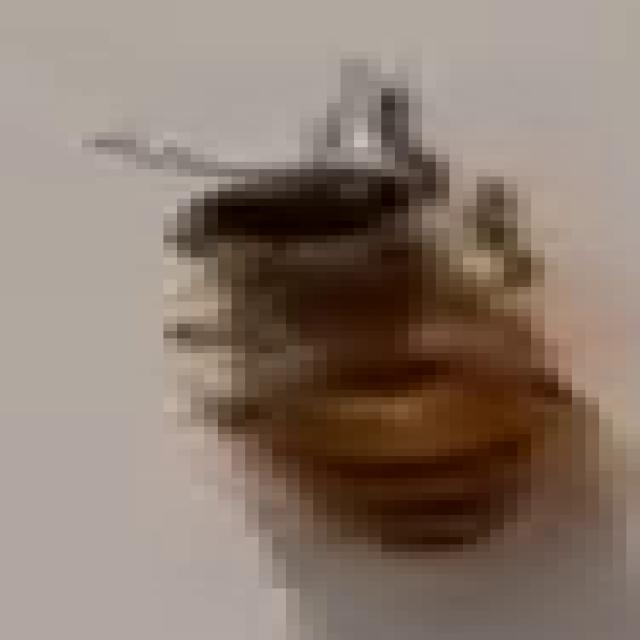honeybee: (112, 110, 594, 558)
